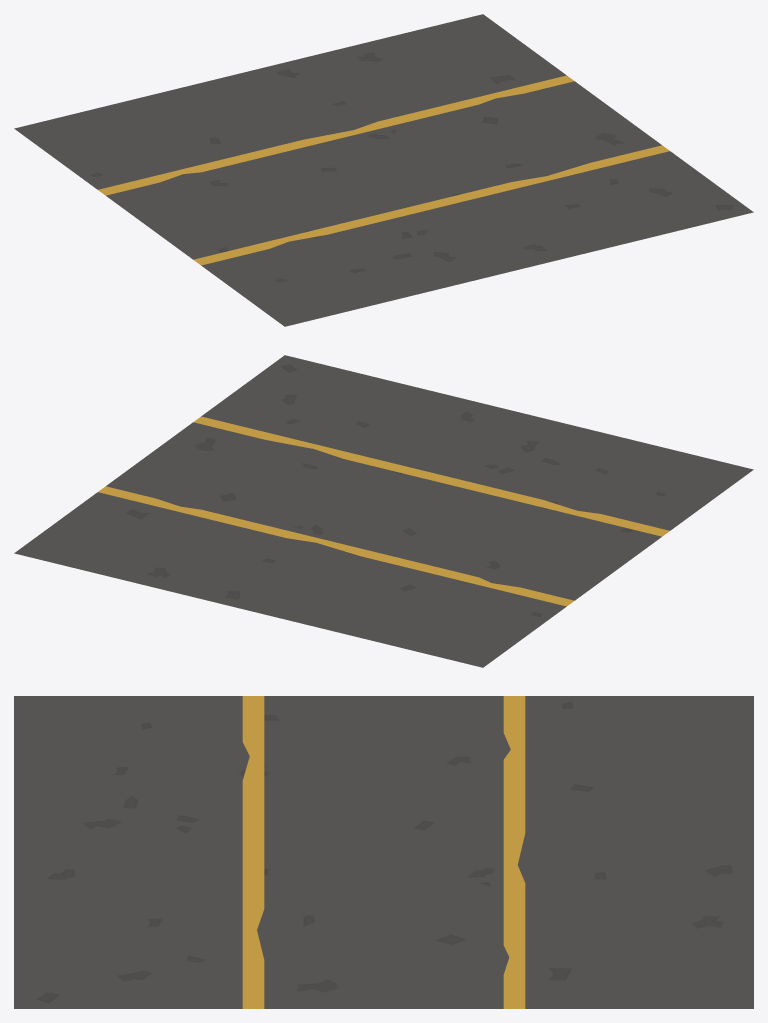
Rendered from SM_Env_Ground_Lines_Yellow_01.fbx.
3 views of the same model, one above another, from view 1: azimuth 30°, elevation 25°; view 2: azimuth 150°, elevation 25°; view 3: azimuth 270°, elevation 25° (orthographic). The views are drawn at different scales.
Parts seen in each view (by area): view 1: SM_Env_Ground_Lines_Yellow_01; view 2: SM_Env_Ground_Lines_Yellow_01; view 3: SM_Env_Ground_Lines_Yellow_01.
Part boxes in pixels (x1,y1,x2,y2): SM_Env_Ground_Lines_Yellow_01: (14,14,753,326); SM_Env_Ground_Lines_Yellow_01: (14,355,753,667); SM_Env_Ground_Lines_Yellow_01: (14,696,753,1008).
Size of the model in its own units: 1000 by 0 by 1000.
